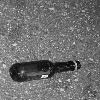beer: (9, 57, 83, 78)
